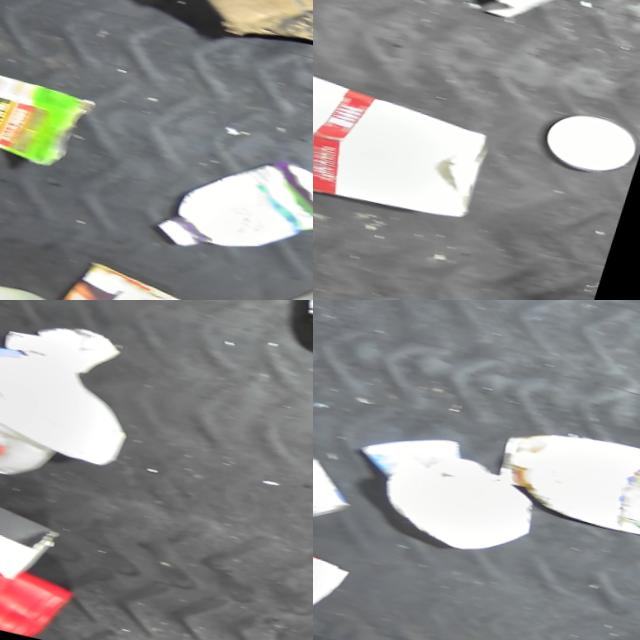can: (313, 439, 371, 533)
milk_jug: (0, 334, 152, 472), (0, 374, 79, 489)
non_white_jug: (488, 414, 640, 558)
